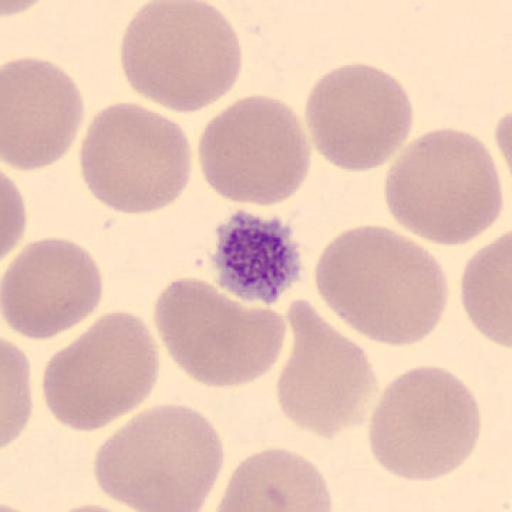Platelet: (210, 207, 306, 306)
RBC: (313, 223, 451, 350), (150, 274, 288, 390), (40, 309, 162, 433), (274, 297, 379, 441), (383, 125, 504, 247), (93, 402, 226, 512), (119, 0, 244, 114), (368, 363, 482, 483), (78, 100, 194, 217), (196, 92, 312, 208), (304, 61, 414, 173), (0, 236, 104, 342), (2, 54, 86, 172), (214, 445, 334, 512), (459, 231, 512, 349), (1, 336, 33, 448), (0, 169, 28, 272), (493, 105, 512, 170), (47, 502, 155, 512), (1, 0, 46, 18), (2, 0, 34, 20)
